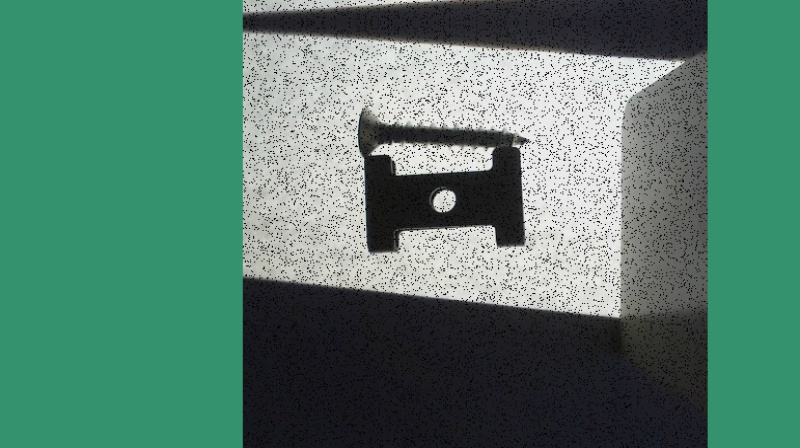O002: (364, 148, 527, 254)
S001: (356, 105, 531, 159)
